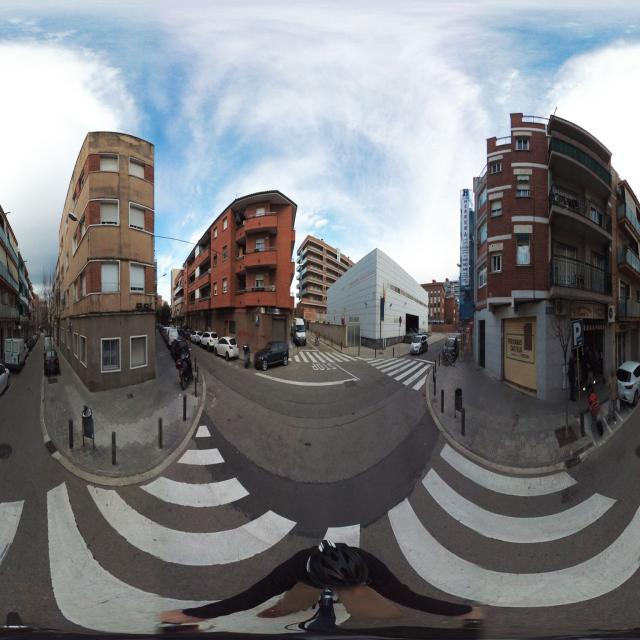forb_stopping: (399, 317, 402, 325)
forb_waiting: (342, 319, 345, 325)
